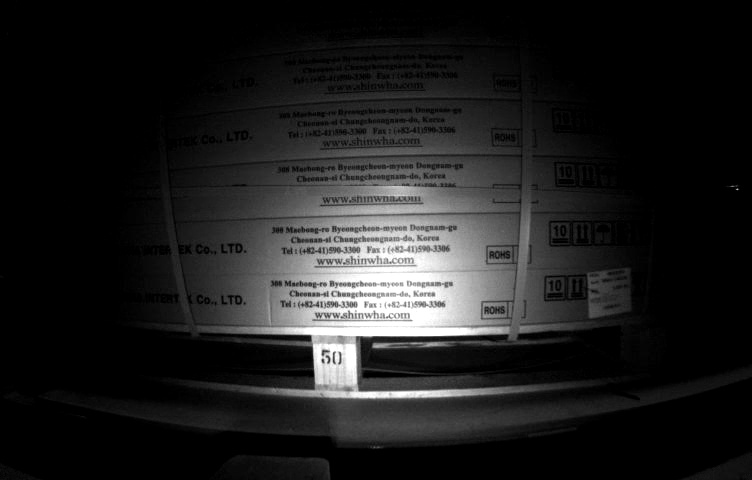True Barcode: (587, 266, 632, 319)
